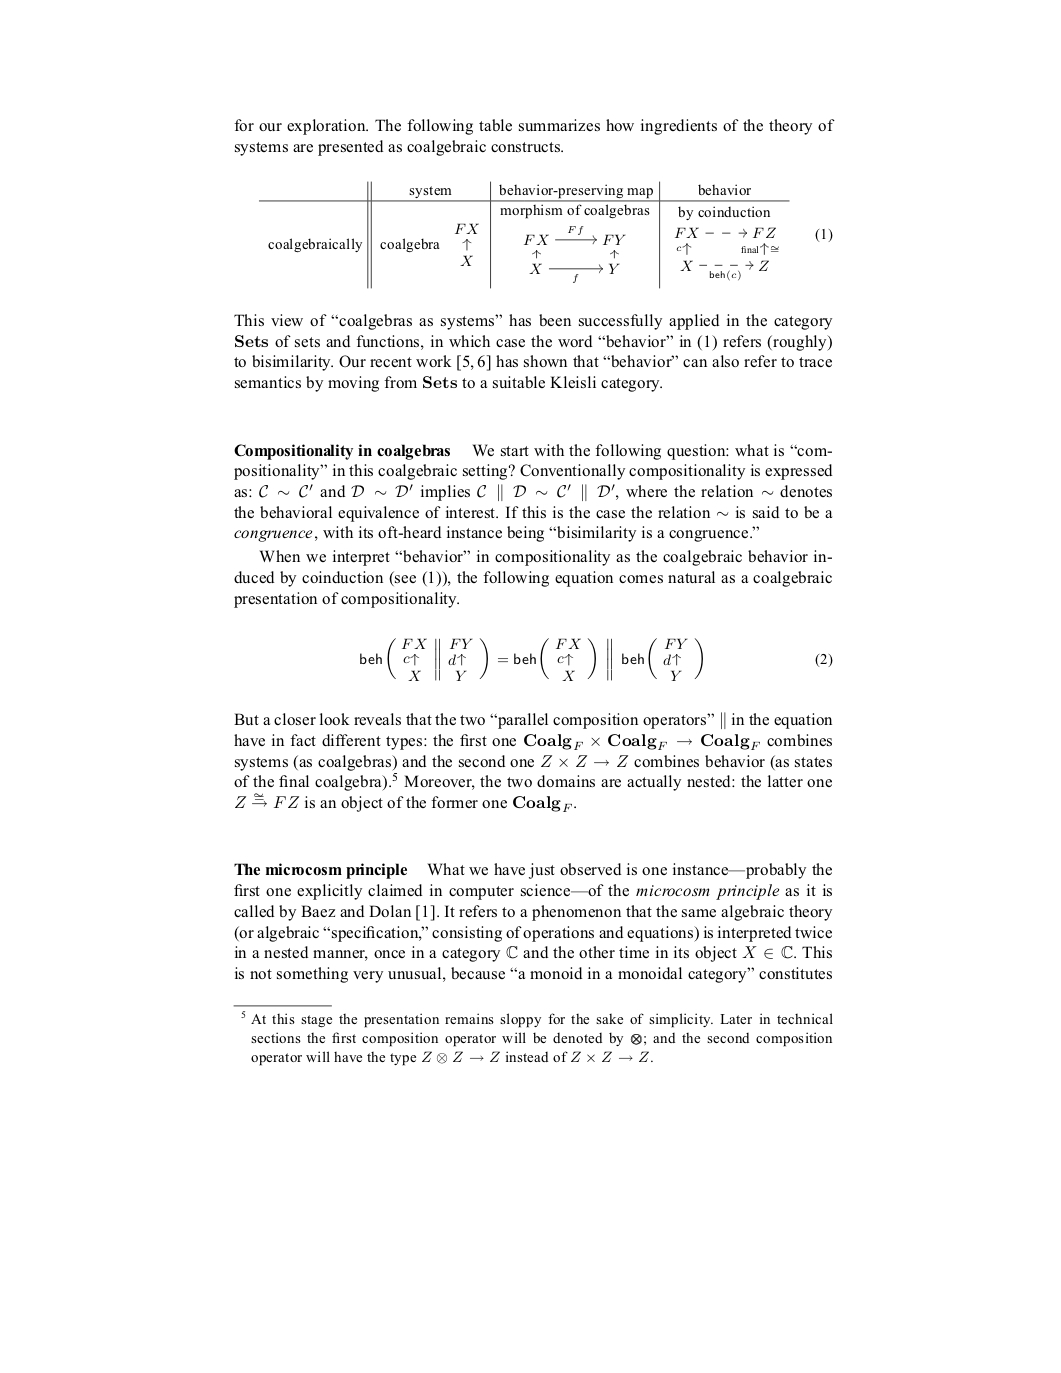Table: (259, 181, 833, 289)
formula: (360, 637, 833, 681)
